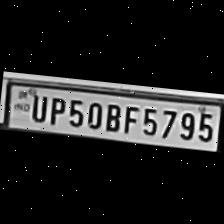0: (83, 97, 104, 130)
5: (64, 95, 86, 129), (138, 104, 160, 138), (194, 110, 216, 144)
7: (156, 106, 178, 140)
9: (175, 108, 197, 142)
B: (102, 100, 123, 134)
F: (120, 102, 140, 136)
P: (45, 93, 67, 127)
U: (26, 90, 48, 124)
